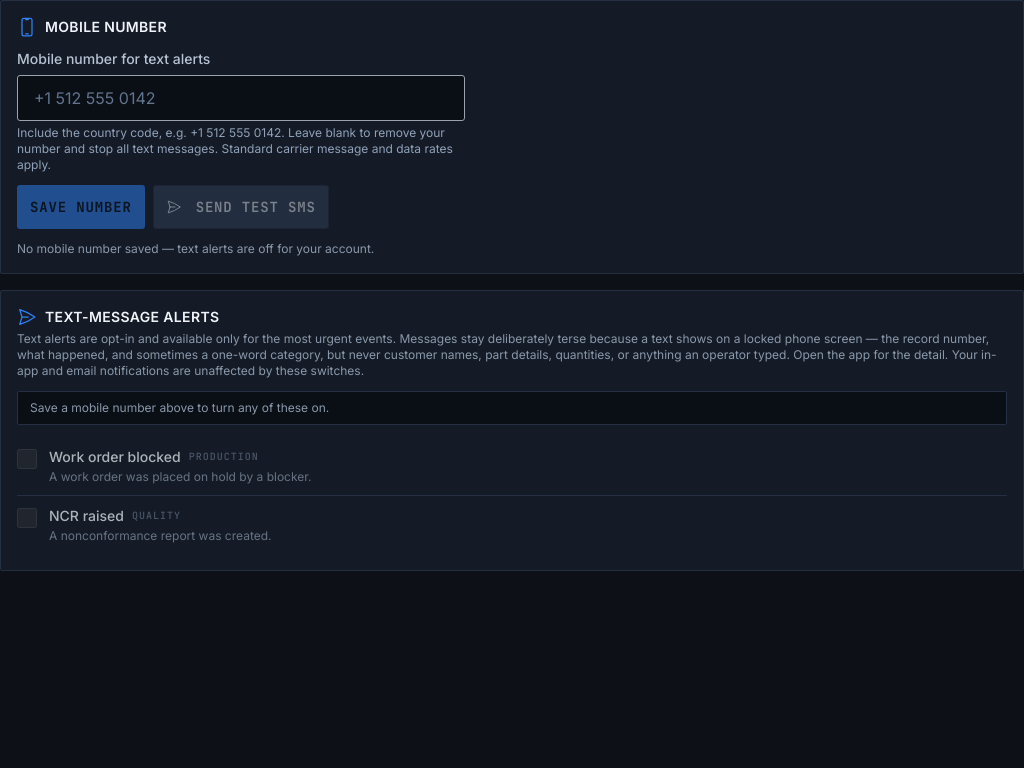
Test: SmsSettingsSection — phone number › surfaces the server 422 detail verbatim when normalization is refused
This screenshot has width=1024, height=768.
Expected: the text "Work order blocked production" is shown, top-left (49, 448), bottom-right (259, 465)
Step 1. Type "+15125550142" into the field labelled "Mobile number for text alerts" → [241, 98], box top-left (17, 75), bottom-right (465, 121)
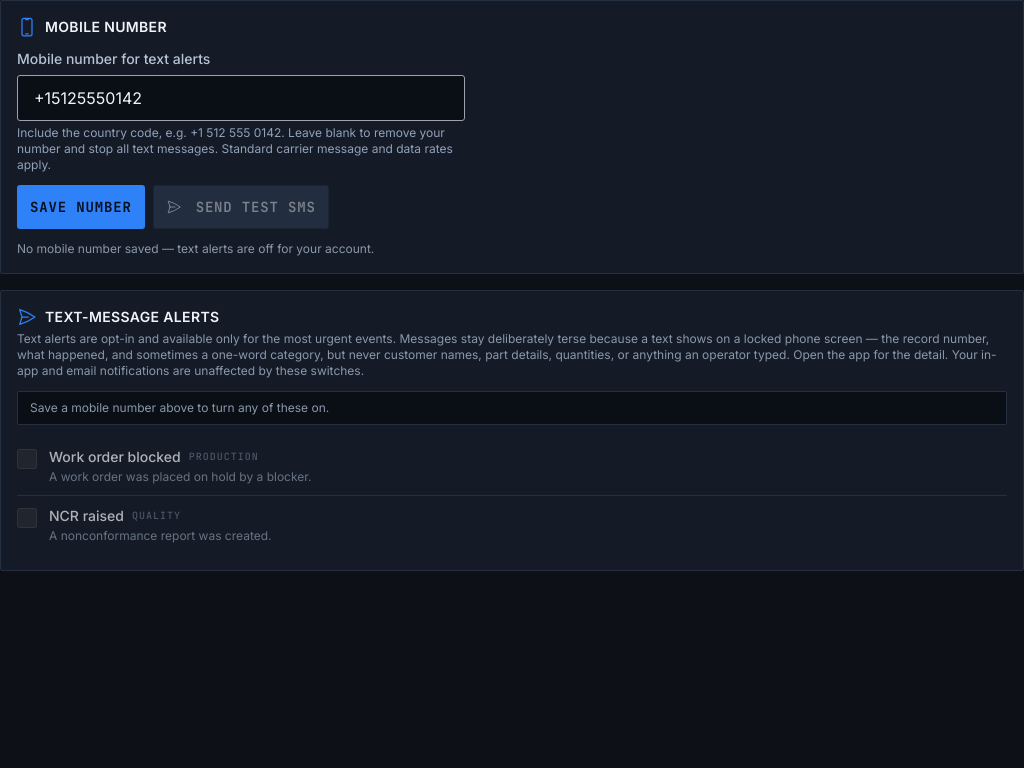
Step 2. Click the button "Save number" → [81, 207], box top-left (17, 185), bottom-right (145, 229)
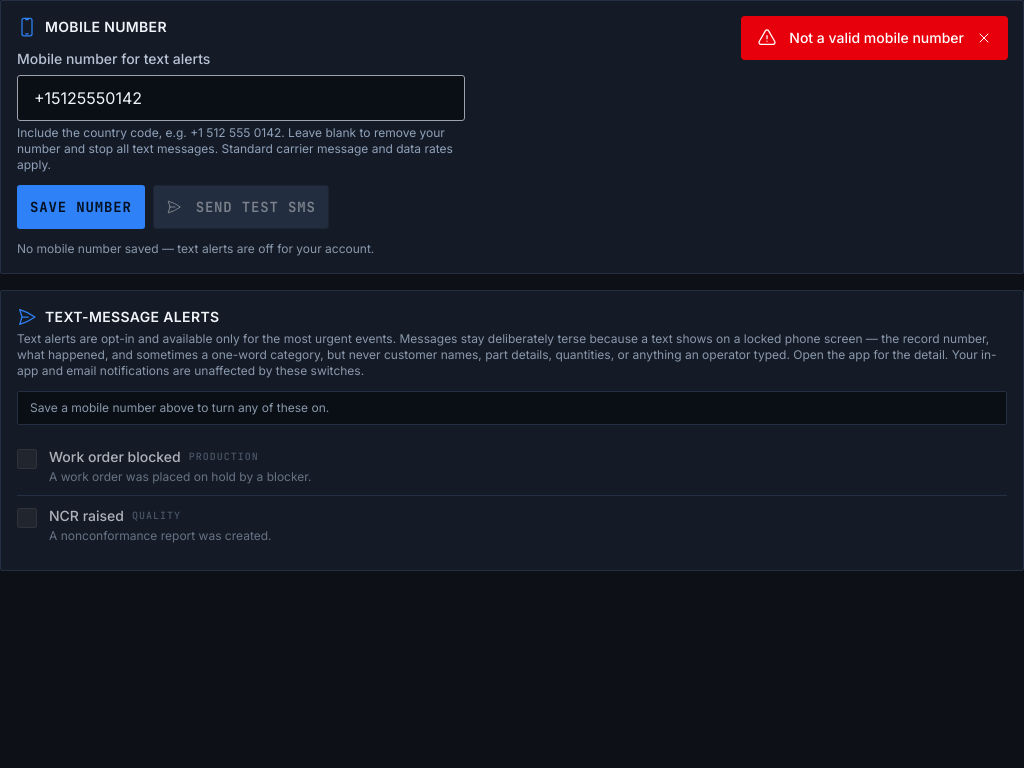
Expected: the text "Not a valid mobile number" is shown, top-left (789, 28), bottom-right (964, 48)
